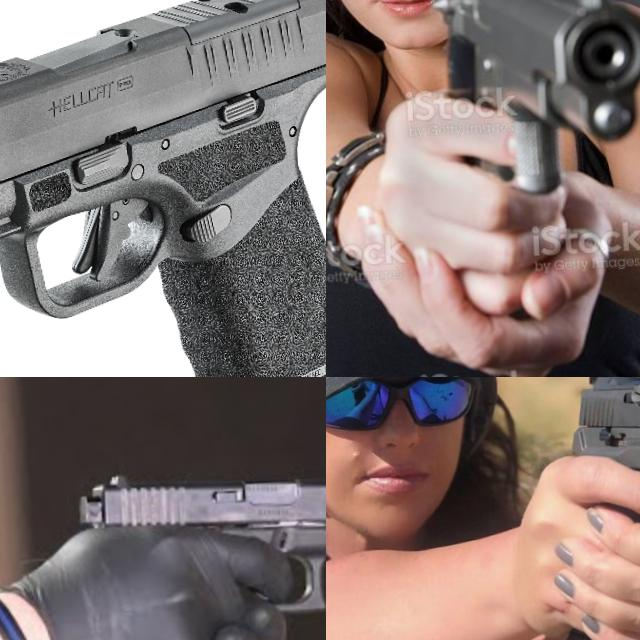handgun: (0, 0, 326, 377), (70, 453, 326, 637), (424, 0, 640, 211), (545, 377, 640, 640)
